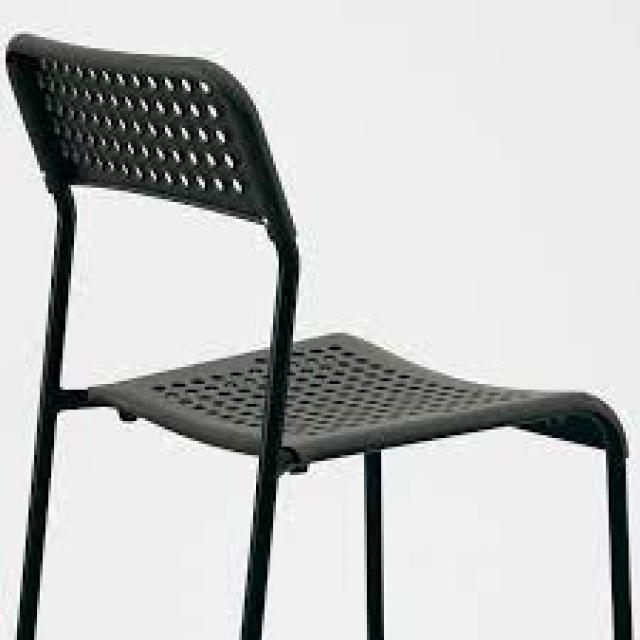chair: (6, 31, 636, 640)
